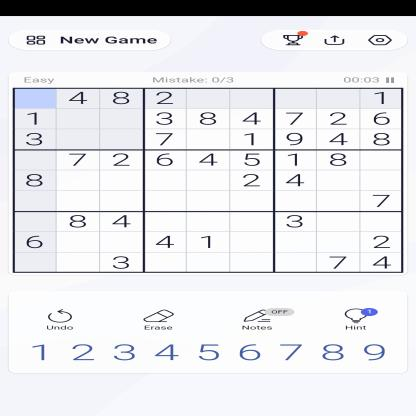sudoku: (6, 85, 413, 276)
